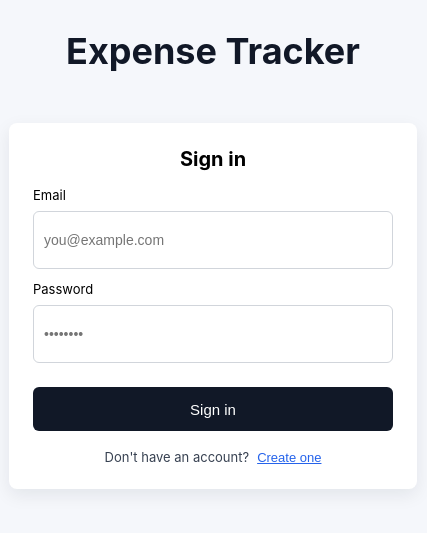
Scenario: Login Component › Form Validation › should show error when email is empty
Type "password123" into the password field with placeholder "••••••••" at (213, 334), box [33,305,393,363]
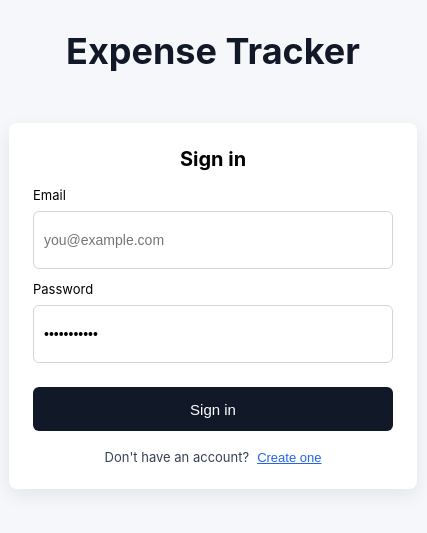
Click the button "Sign in" at (213, 409), box [33,387,393,431]
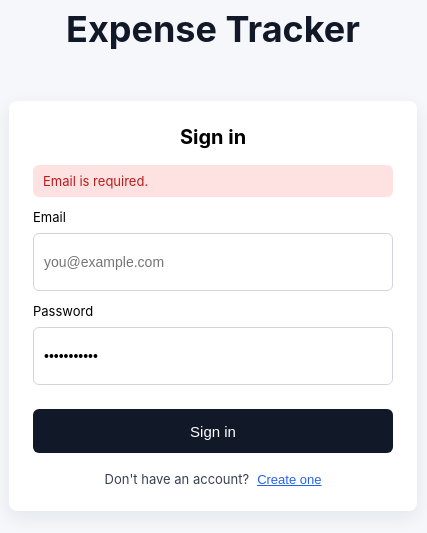
Now the text "Email is required." is shown, box [33,165,393,197]
